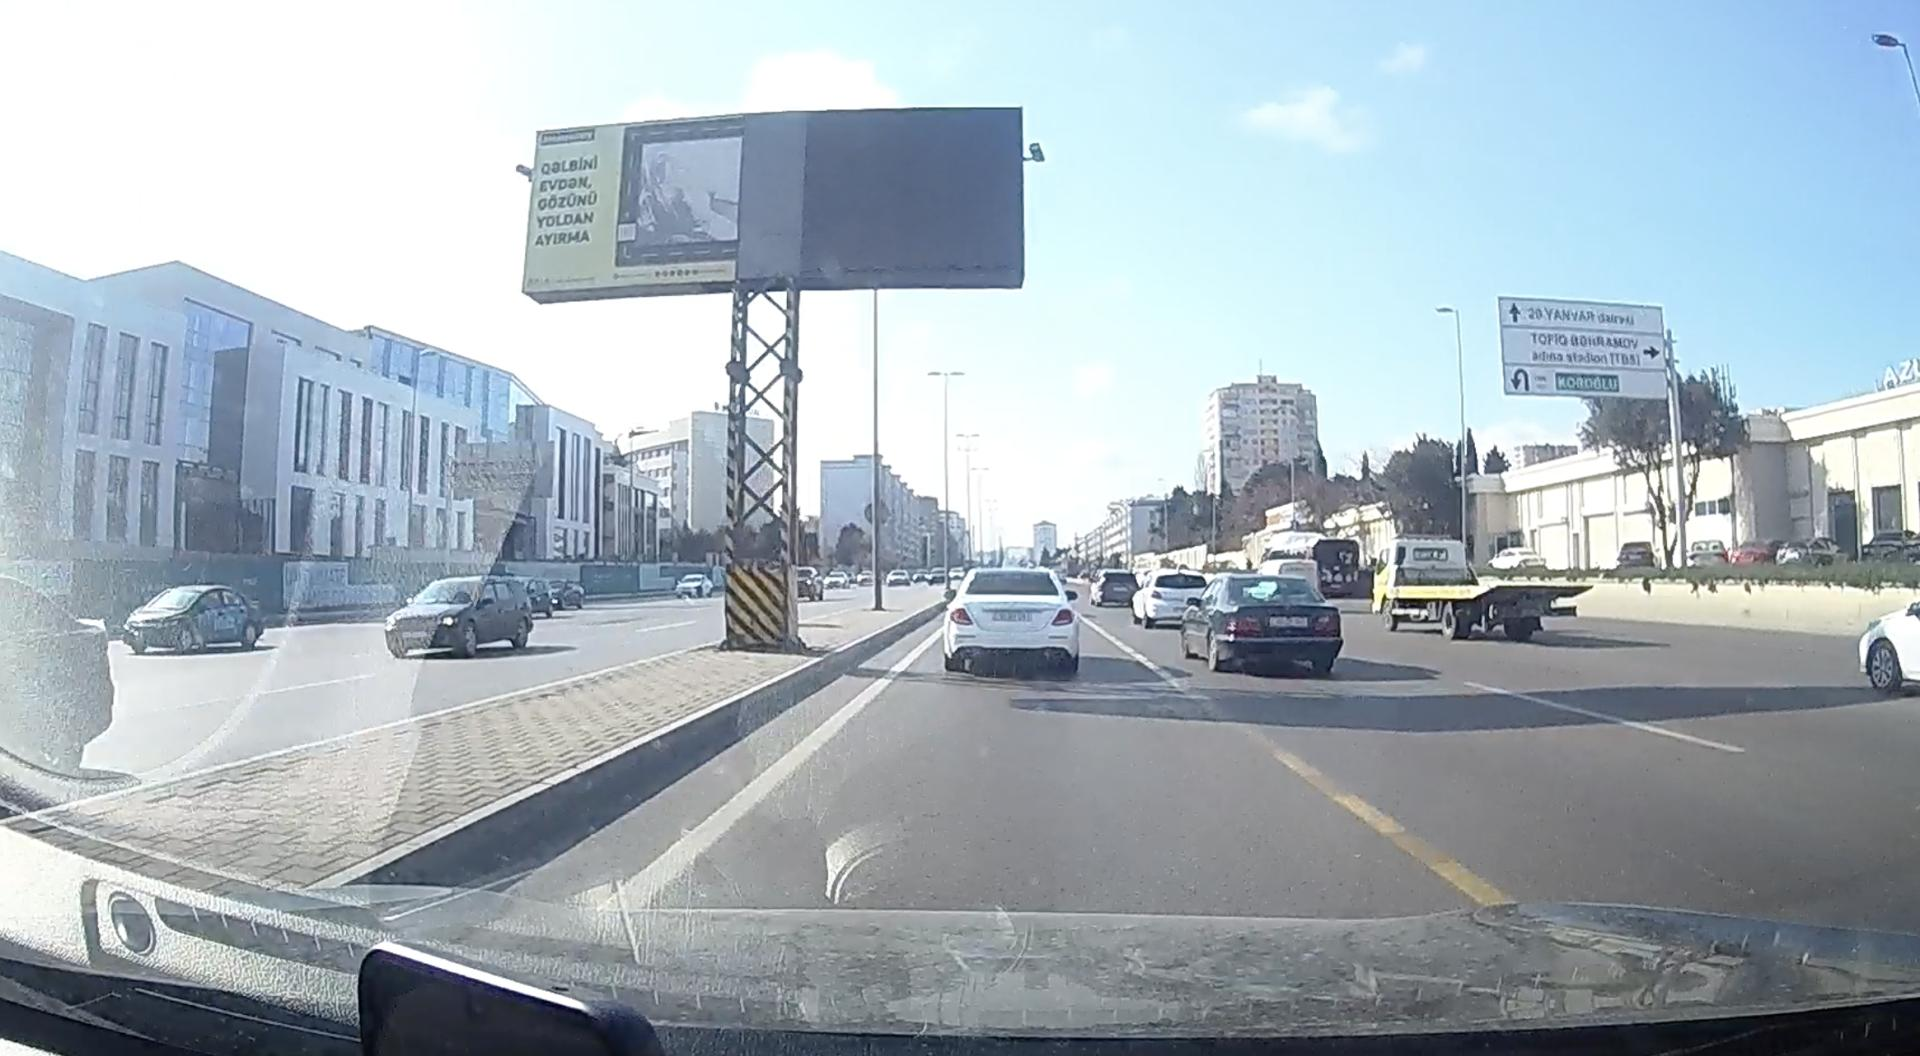banner: (521, 106, 1028, 304)
